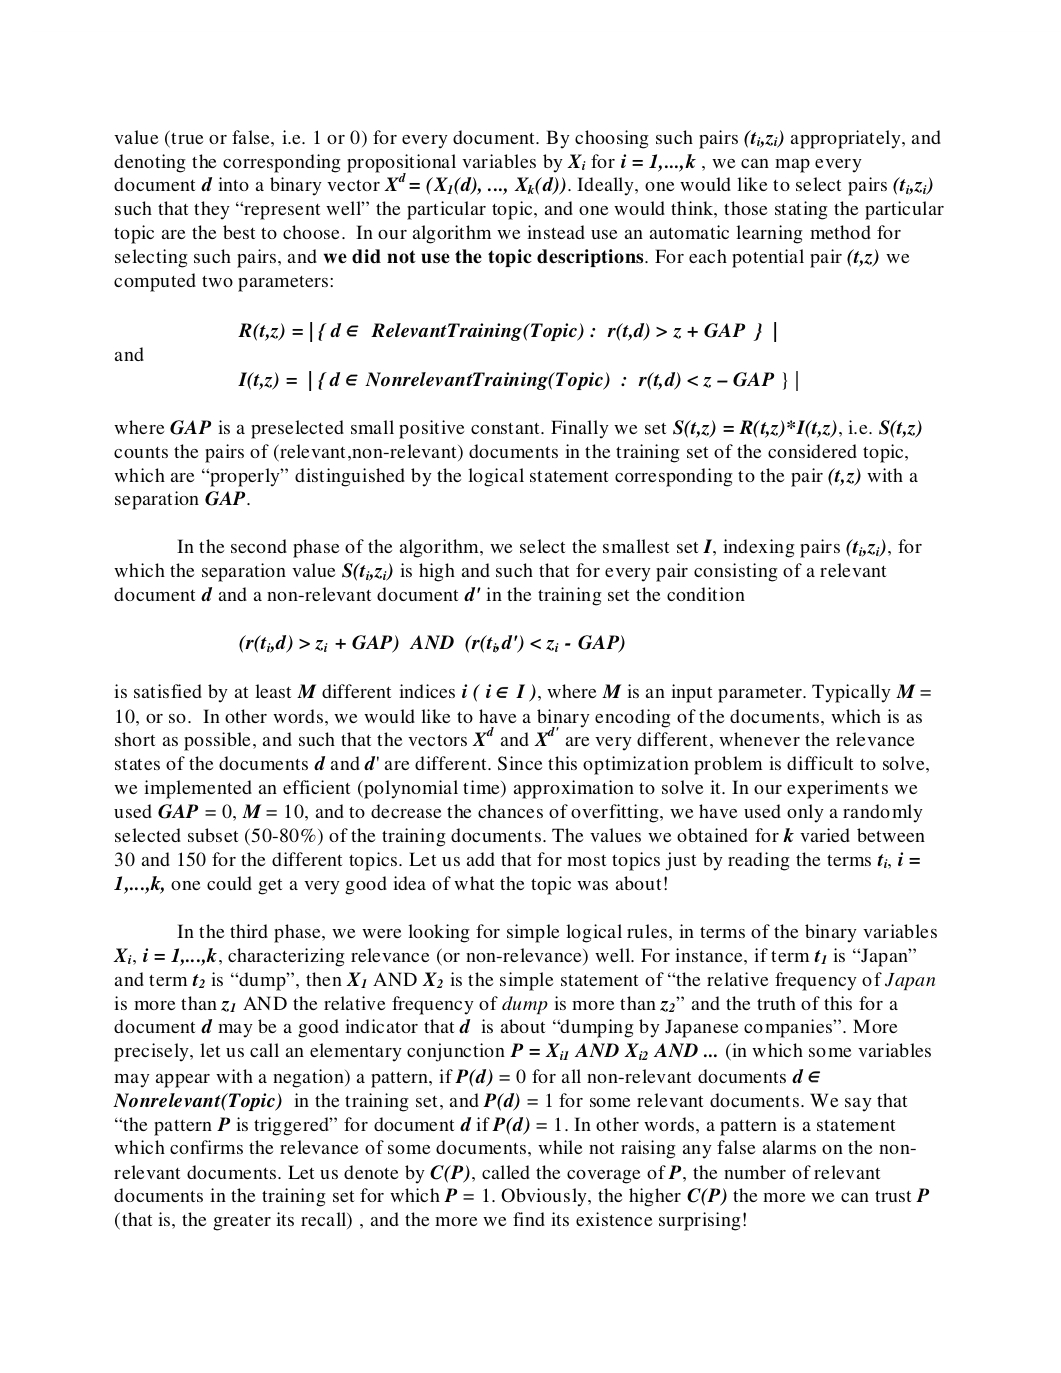formula: (239, 370, 797, 391), (239, 321, 776, 342), (239, 634, 624, 653)
